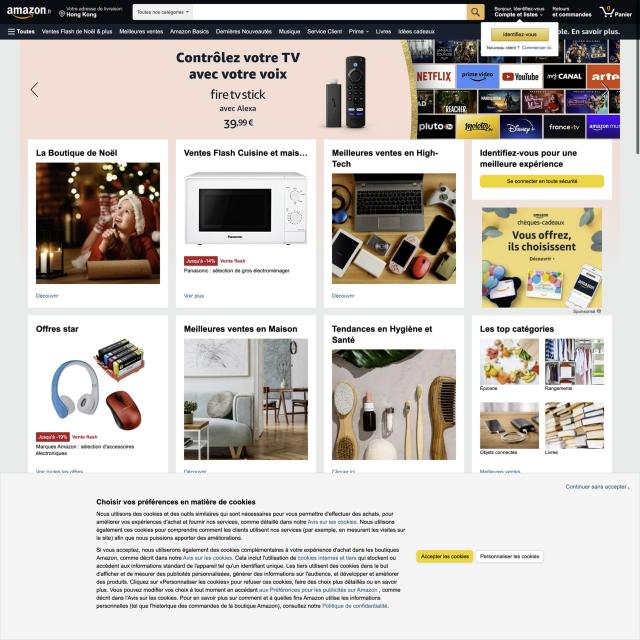input: (132, 4, 484, 21)
logo: (6, 5, 53, 21)
navigation: (40, 26, 438, 37), (6, 27, 36, 37)
